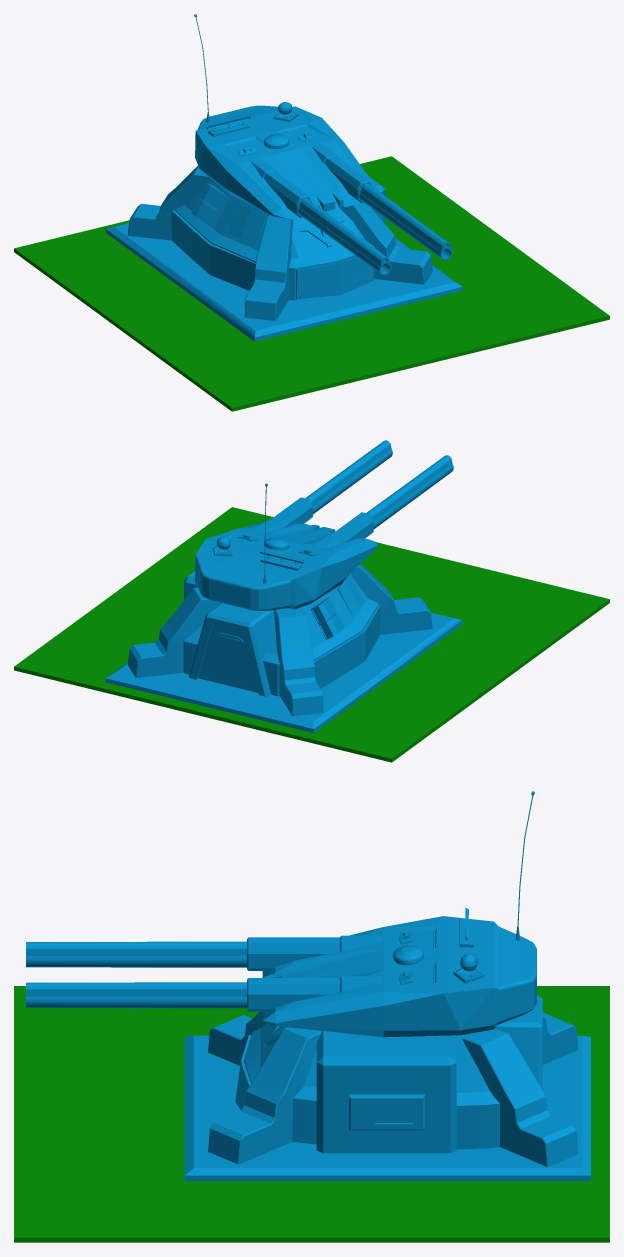
The model's file is Defence Tower Enemy.fbx.
3 renders of one model, top to bottom at view 1: azimuth 30°, elevation 25°; view 2: azimuth 150°, elevation 25°; view 3: azimuth 270°, elevation 25°, orthographic. The views are drawn at different scales.
Visible parts, largest first — view 1: Ground, Turret_Base, Turret_Gun; view 2: Ground, Turret_Base, Turret_Gun; view 3: Ground, Turret_Base, Turret_Gun.
Part boxes in pixels (x1,y1,x2,y2): Ground: (14, 156, 609, 411); Turret_Base: (105, 165, 462, 341); Turret_Gun: (194, 14, 452, 275); Ground: (14, 507, 609, 762); Turret_Base: (105, 563, 462, 732); Turret_Gun: (195, 440, 453, 610); Ground: (14, 986, 609, 1242); Turret_Base: (184, 995, 590, 1180); Turret_Gun: (26, 791, 536, 1037).
Size of the model in its own units: 402 by 227 by 402.
